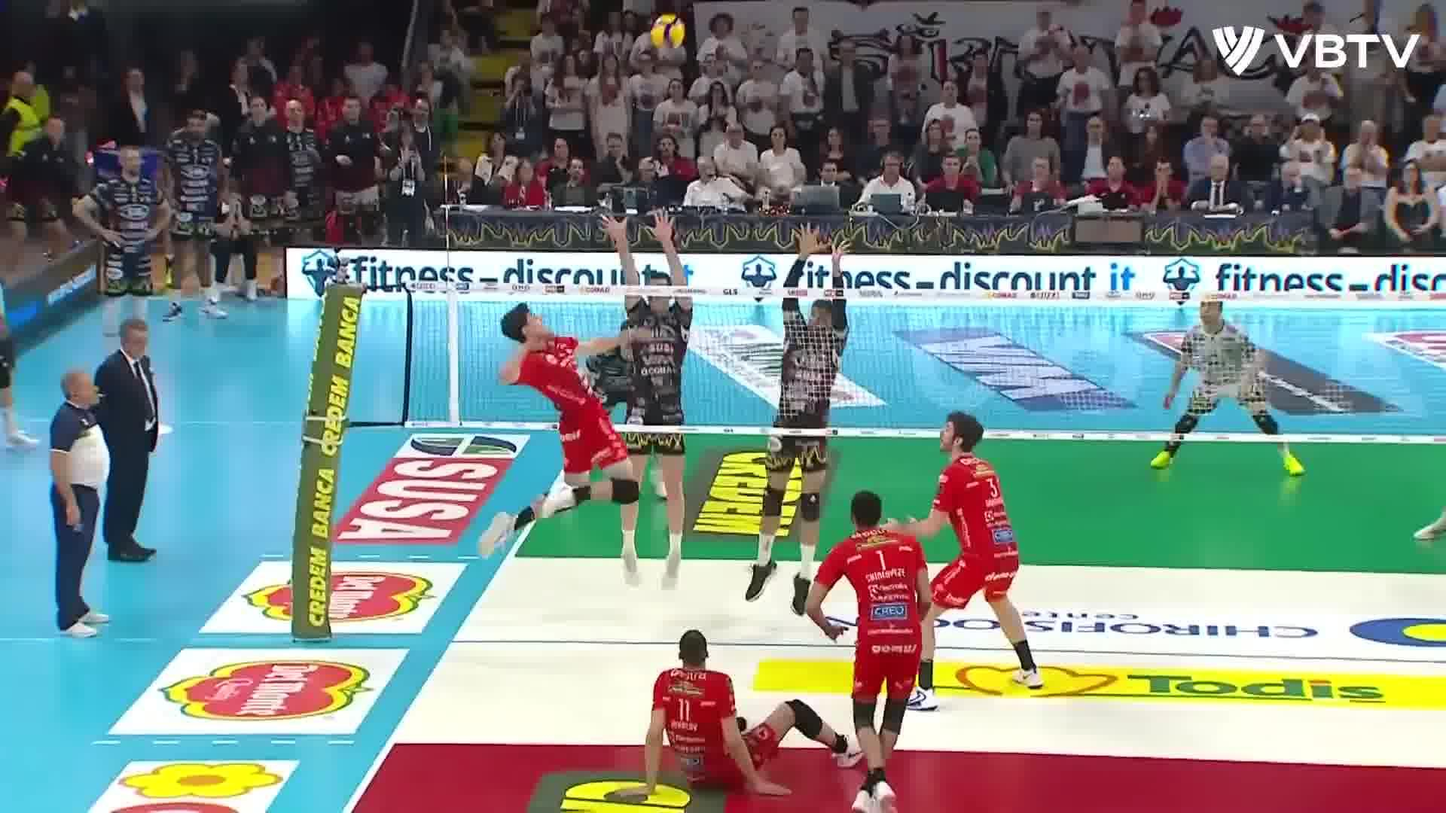balls: (651, 14, 688, 51)
